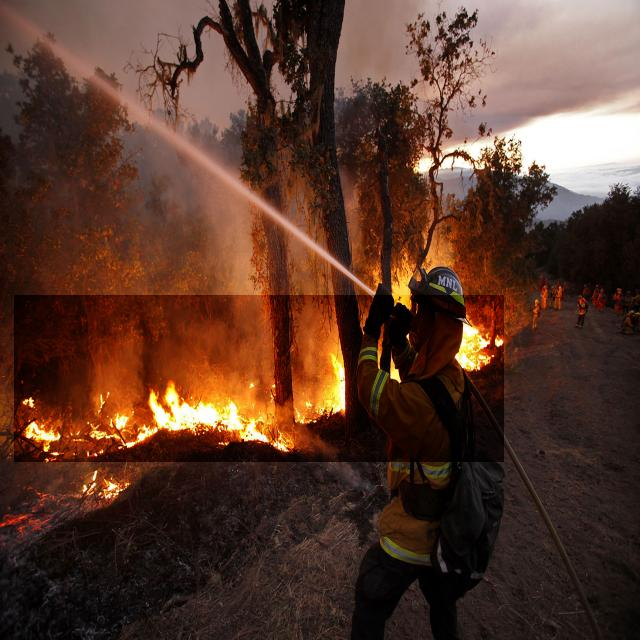Fire: (14, 295, 504, 462)
